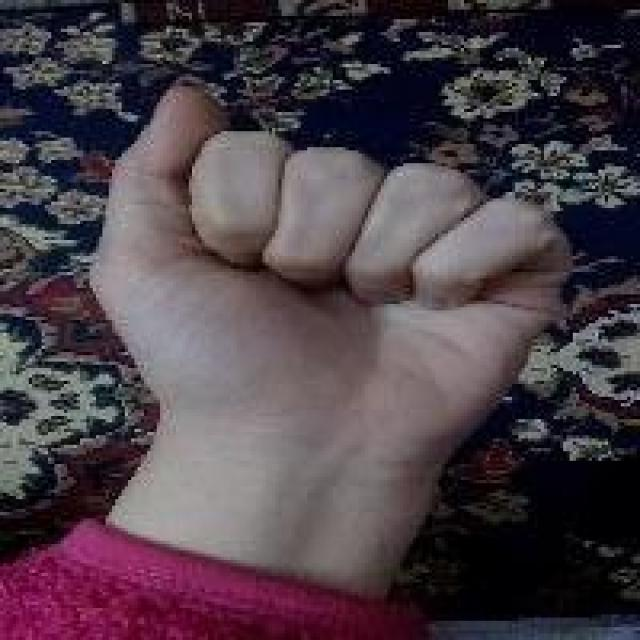A: (86, 80, 580, 438)
